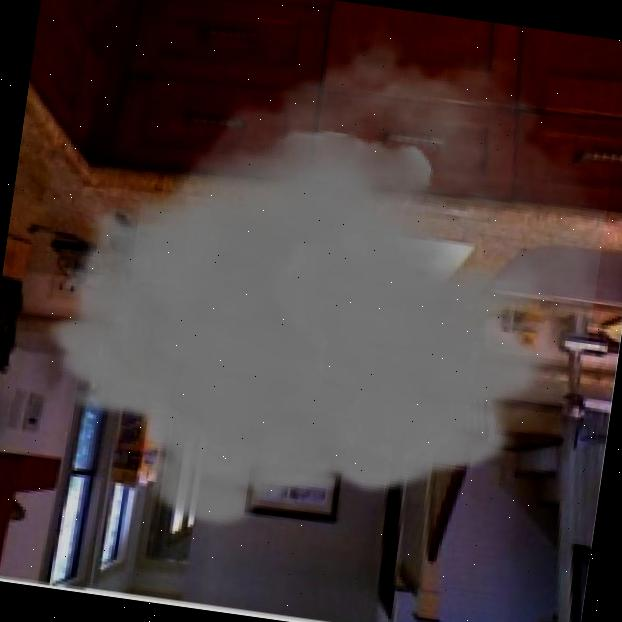smoke: (20, 0, 622, 579)
